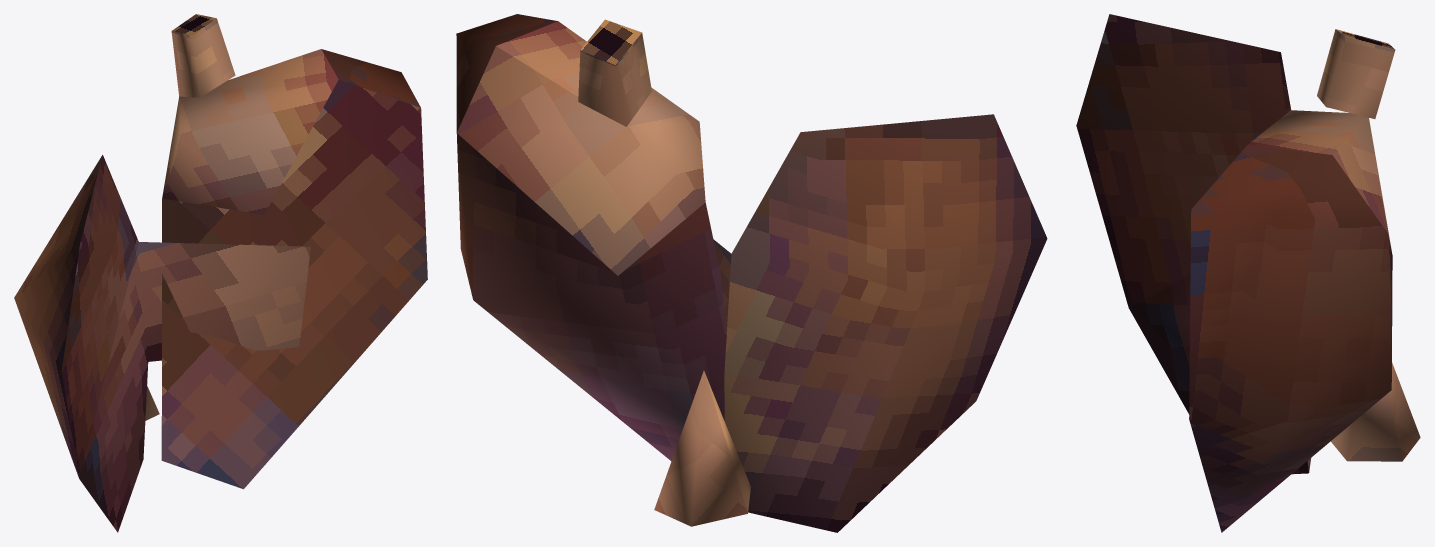
The model's file is eqp_organ_liver_s02_l3.fbx.
3 renders of one model, left to right at view 1: azimuth 30°, elevation 25°; view 2: azimuth 150°, elevation 25°; view 3: azimuth 270°, elevation 25°, orthographic. The views are drawn at different scales.
Parts seen in each view (by area): view 1: mesh_node; view 2: mesh_node; view 3: mesh_node.
Part boxes in pixels (box(x1,y1,x2,y2)): mesh_node: box(14, 14, 427, 532); mesh_node: box(456, 14, 1047, 532); mesh_node: box(1076, 14, 1420, 532).
Bounding box in the file's own units: 0.164 × 0.1633 × 0.0965.
